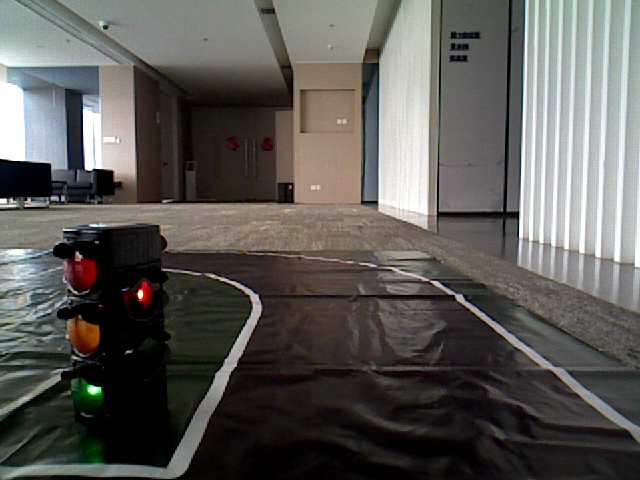green: (61, 239, 122, 406)
